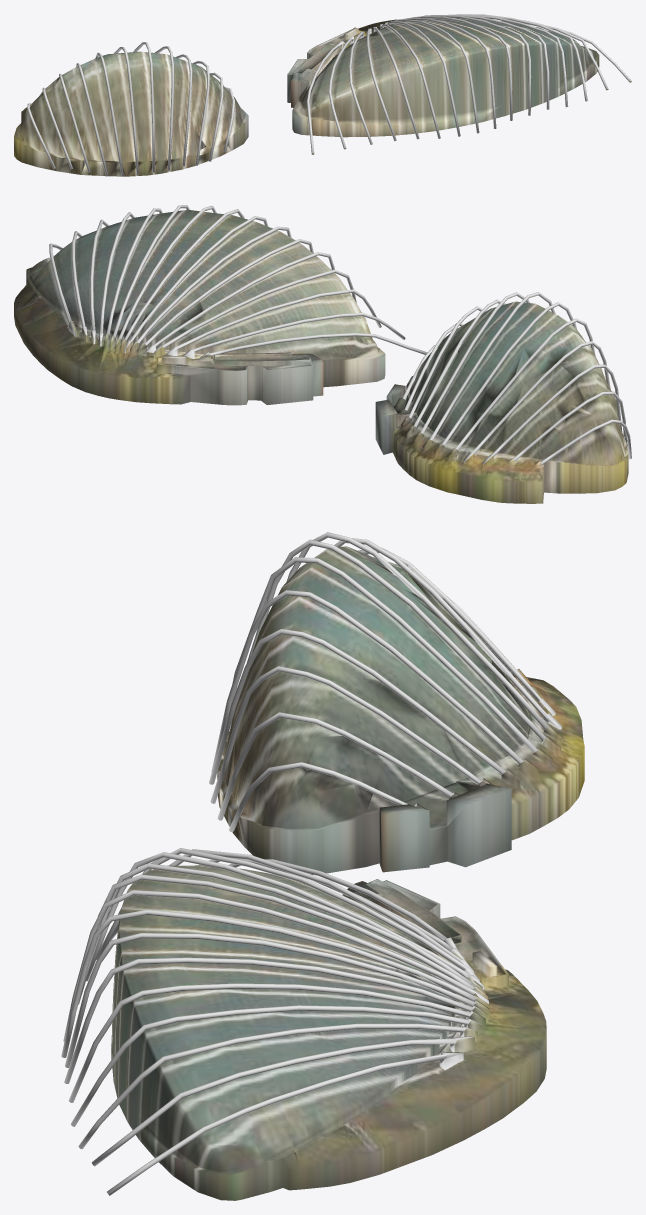
The picture shows the model from 3 angles, top to bottom: view 1: azimuth 30°, elevation 25°; view 2: azimuth 150°, elevation 25°; view 3: azimuth 270°, elevation 25°; orthographic projection. The views are drawn at different scales.
Parts seen in each view (by area): view 1: Flower Dome, Cloud Forest; view 2: Flower Dome, Cloud Forest; view 3: Flower Dome, Cloud Forest.
Boxes of the visible parts, x1,y1,x2,y2 form: Flower Dome: [287, 14, 631, 154]; Cloud Forest: [14, 42, 248, 176]; Flower Dome: [14, 205, 427, 405]; Cloud Forest: [375, 292, 631, 503]; Flower Dome: [61, 848, 546, 1200]; Cloud Forest: [209, 532, 584, 874].
Size of the model in its own units: 316 by 62.87 by 134.
Materials: 3 (2 with a texture image).
